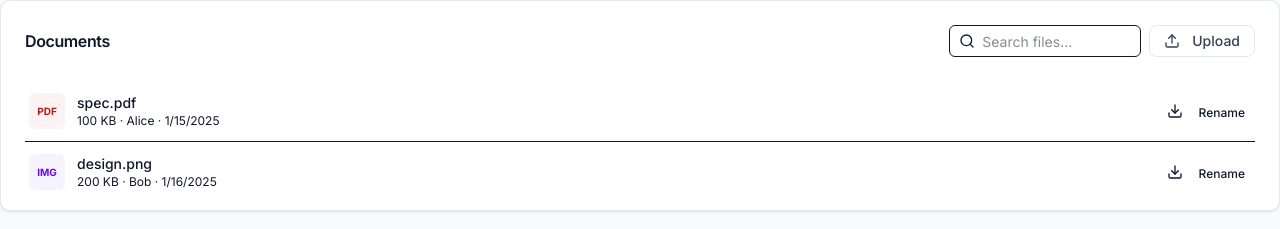
DocumentManager › filters documents by search
The image size is (1280, 229).
Check: the text "spec.pdf" is shown, box [77, 94, 136, 111]
Type "png" into the field with placeholder "Search files…" at (1045, 41), box [949, 25, 1141, 57]
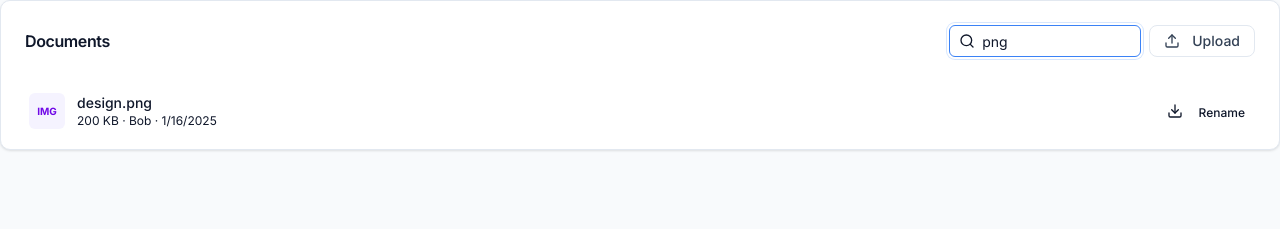
Check: the text "design.png" is shown, box [77, 94, 152, 111]
Check: the text "spec.pdf" is gone
